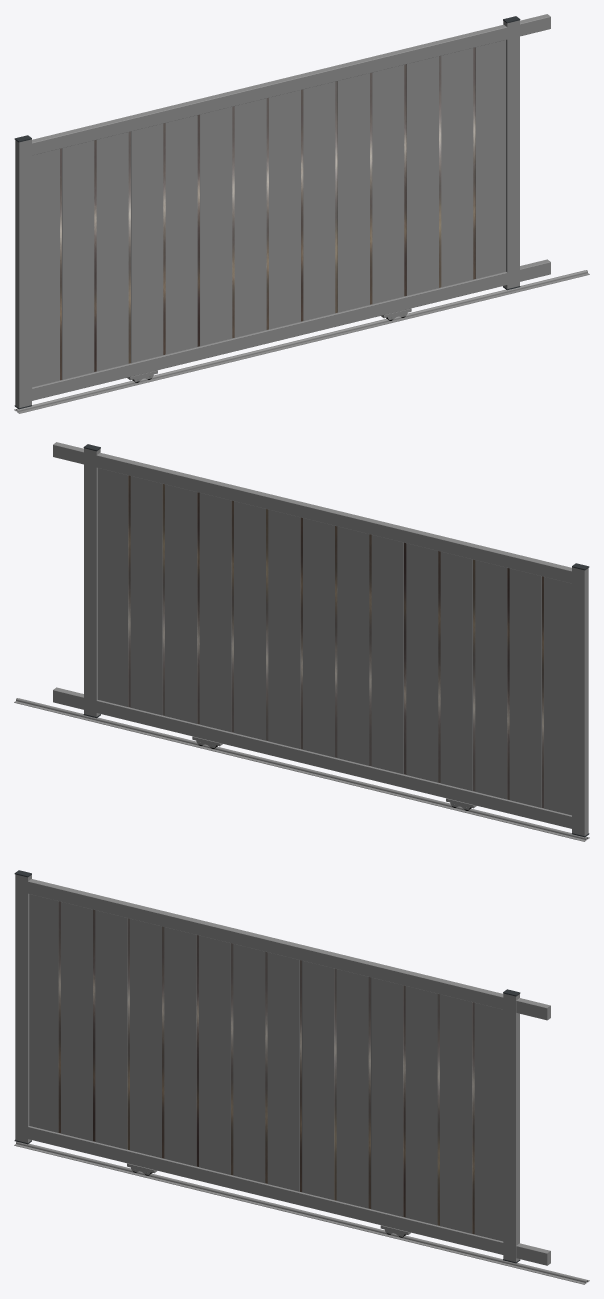
The picture shows the model from 3 angles, top to bottom: view 1: azimuth 30°, elevation 25°; view 2: azimuth 150°, elevation 25°; view 3: azimuth 330°, elevation 25°; orthographic projection.
Visible parts, largest first — view 1: Shape107412039, Shape107412877, Shape107412873, Shape192, Shape184, Shape107412875, Shape107412879, Shape188, Shape180, Shape176, Shape170, Shape107412871 (+19 smaller); view 2: Shape107412039, Shape107412871, Shape192, Shape184, Shape176, Shape107412879, Shape107412877, Shape188, Shape180, Shape107412875, Shape170, Shape107412868 (+19 smaller); view 3: Shape107412039, Shape107412868, Shape107412871, Shape176, Shape107412879, Shape107412877, Shape107412873, Shape184, Shape107412875, Shape192, Shape170, Shape188 (+19 smaller).
Part boxes in pixels (x1,y1,x2,y2): Shape107412039: [32, 14, 550, 155]; Shape107412877: [406, 56, 438, 295]; Shape107412873: [337, 73, 369, 312]; Shape192: [234, 98, 266, 337]; Shape184: [165, 115, 197, 354]; Shape107412875: [372, 65, 404, 304]; Shape107412879: [441, 48, 473, 287]; Shape188: [200, 107, 232, 346]; Shape180: [131, 123, 163, 363]; Shape176: [96, 132, 128, 371]; Shape170: [62, 140, 94, 379]; Shape107412871: [303, 81, 335, 320]; Shape107412039: [53, 442, 571, 583]; Shape107412871: [268, 509, 300, 748]; Shape192: [337, 526, 369, 765]; Shape184: [406, 543, 438, 782]; Shape176: [475, 560, 507, 799]; Shape107412879: [130, 476, 162, 715]; Shape107412877: [165, 484, 197, 723]; Shape188: [371, 535, 403, 774]; Shape180: [440, 551, 472, 791]; Shape107412875: [199, 493, 231, 732]; Shape170: [509, 568, 541, 807]; Shape107412868: [303, 518, 334, 757]; Shape107412039: [28, 879, 550, 1020]; Shape107412868: [267, 952, 299, 1191]; Shape107412871: [302, 960, 334, 1199]; Shape176: [95, 910, 127, 1149]; Shape107412879: [440, 994, 472, 1233]; Shape107412877: [405, 986, 437, 1225]; Shape107412873: [336, 969, 368, 1208]; Shape184: [164, 927, 196, 1166]; Shape107412875: [371, 977, 403, 1216]; Shape192: [233, 944, 265, 1183]; Shape170: [61, 902, 92, 1141]; Shape188: [199, 935, 230, 1174].
Size of the model in its own units: 3600 by 1640 by 60.02.
6 materials, 3 textured.
